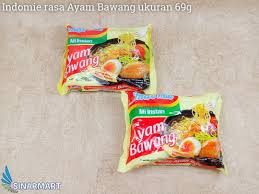Indomie Ayam Bawang (69g): (125, 93, 224, 170), (62, 21, 153, 93)
